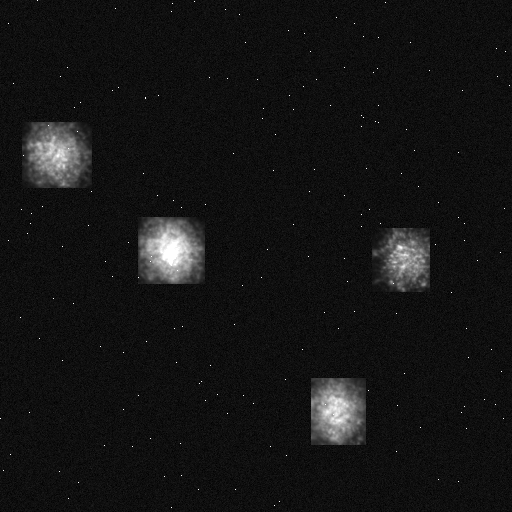lam3: (22, 122, 91, 187), (138, 217, 204, 283), (372, 228, 429, 291), (311, 378, 365, 444)
